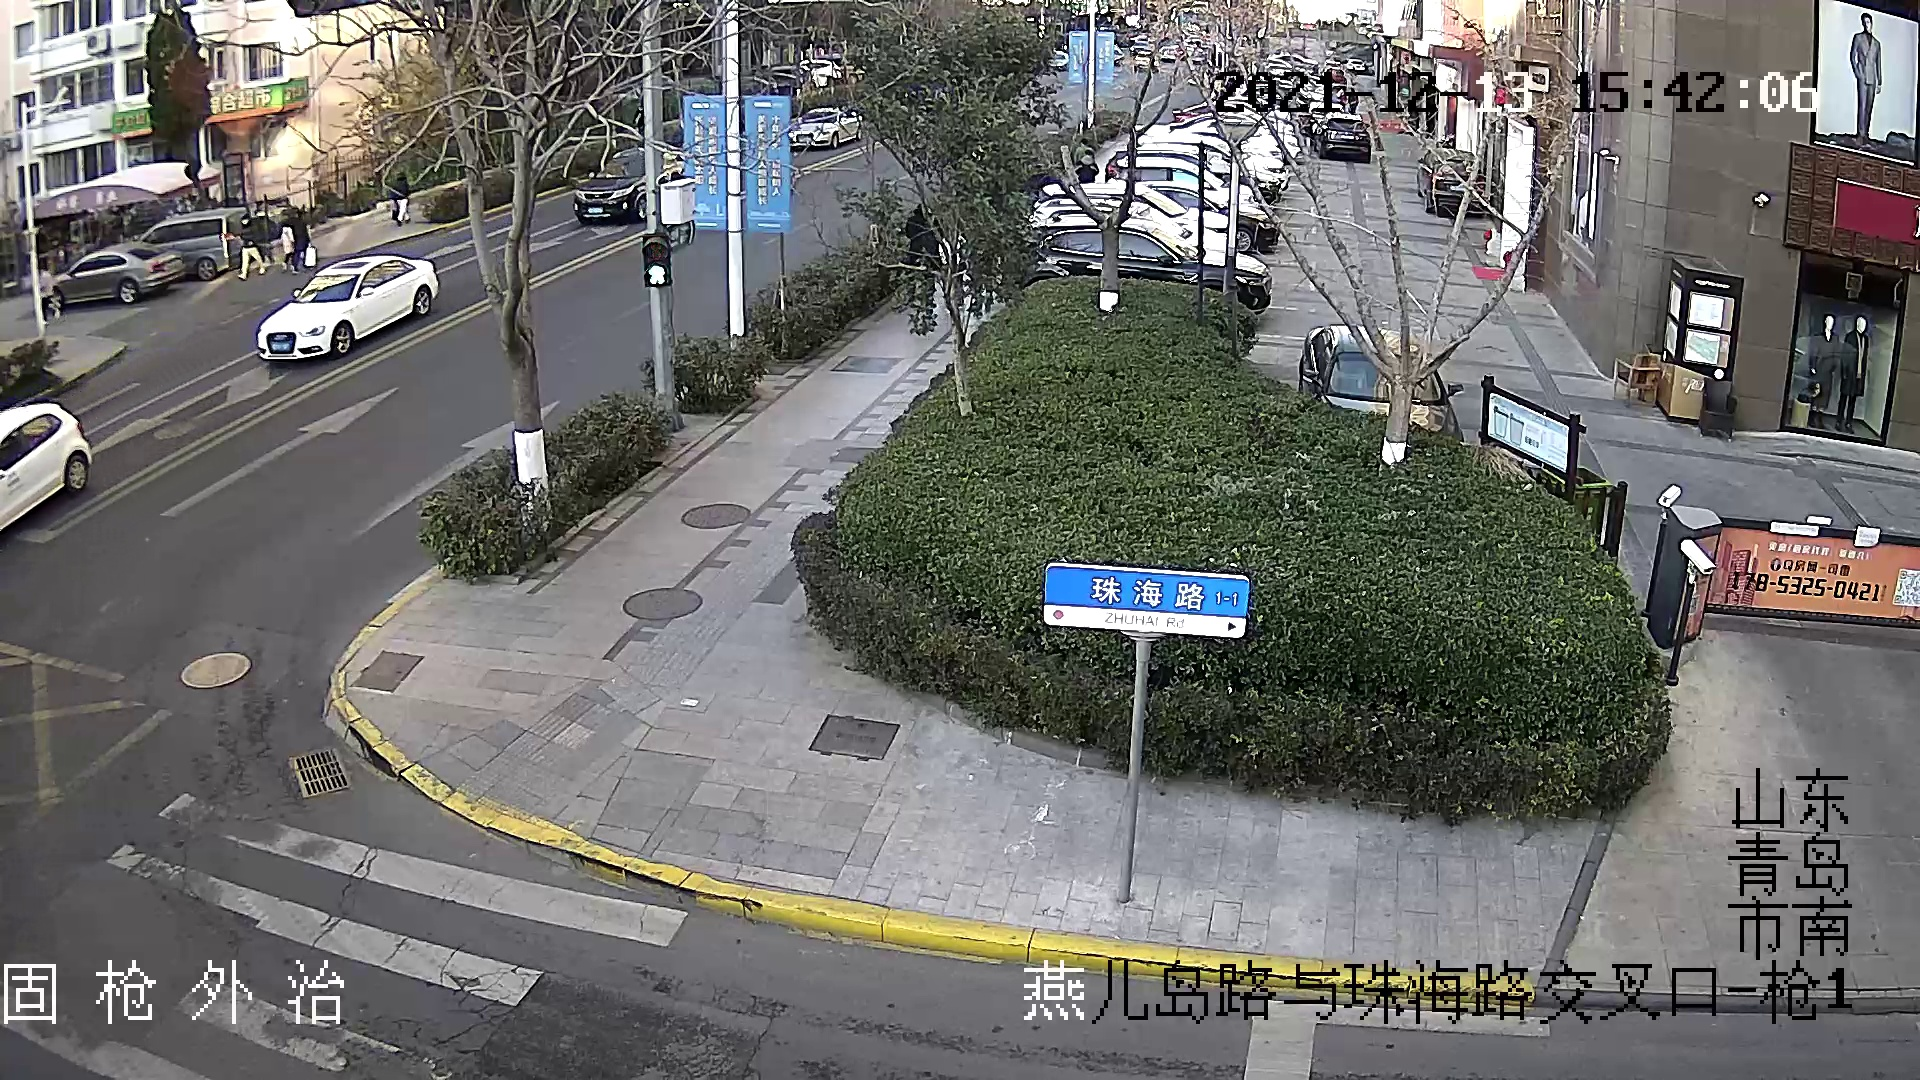chair: (1609, 349, 1662, 411), (1695, 376, 1739, 443)
umbrella: (9, 160, 222, 225)
